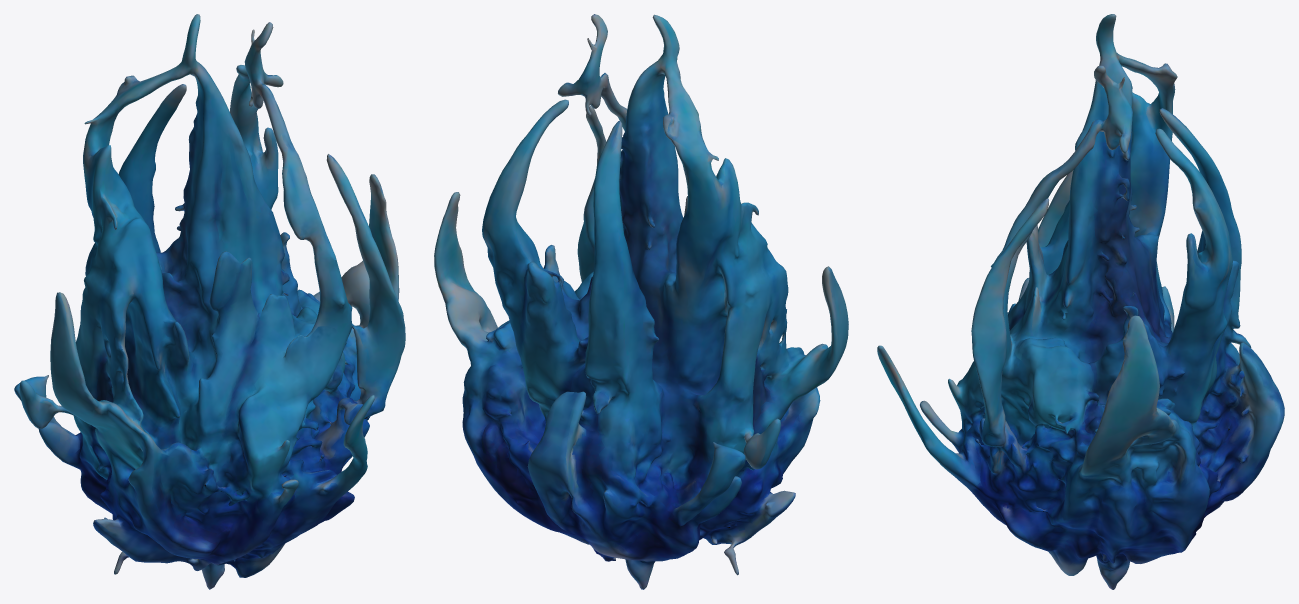
Rendered from Fuego.obj.
The picture shows the model from 3 angles, left to right: view 1: azimuth 30°, elevation 25°; view 2: azimuth 150°, elevation 25°; view 3: azimuth 270°, elevation 25°; orthographic projection.
Parts seen in each view (by area): view 1: Fuego; view 2: Fuego; view 3: Fuego.
Boxes of the visible parts, left/top/right/bottom form: Fuego: left=14, top=14, right=405, bottom=589; Fuego: left=434, top=14, right=848, bottom=589; Fuego: left=877, top=14, right=1284, bottom=589.
Bounding box in the file's own units: 0.7629 × 1.15 × 0.7477.
Materials: 1 (1 with a texture image).
